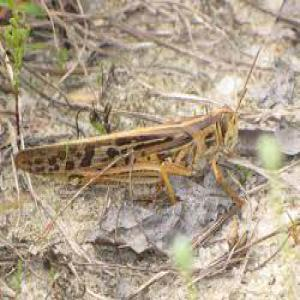locust: (17, 86, 252, 197)
